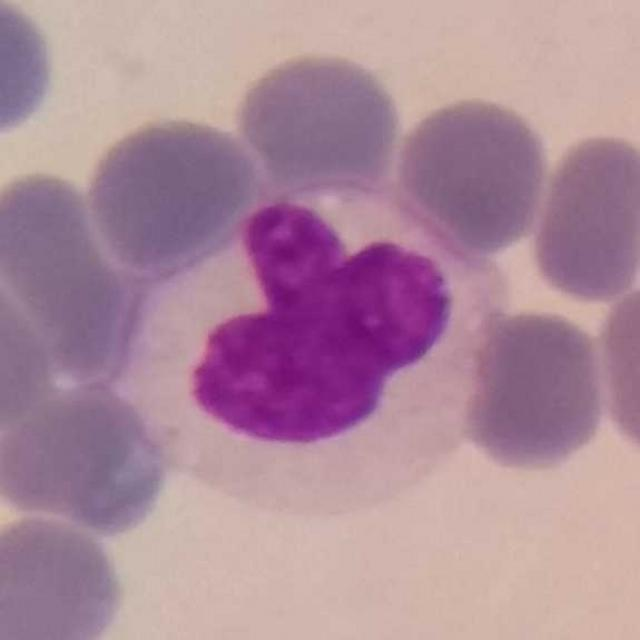Monocyte: (112, 174, 506, 523)
RBC: (0, 164, 141, 378), (80, 110, 263, 273), (0, 380, 177, 538), (392, 90, 553, 257), (457, 304, 612, 475), (230, 47, 408, 191), (525, 127, 640, 306), (0, 510, 130, 640), (0, 265, 55, 437), (592, 278, 640, 467), (0, 0, 61, 146)
